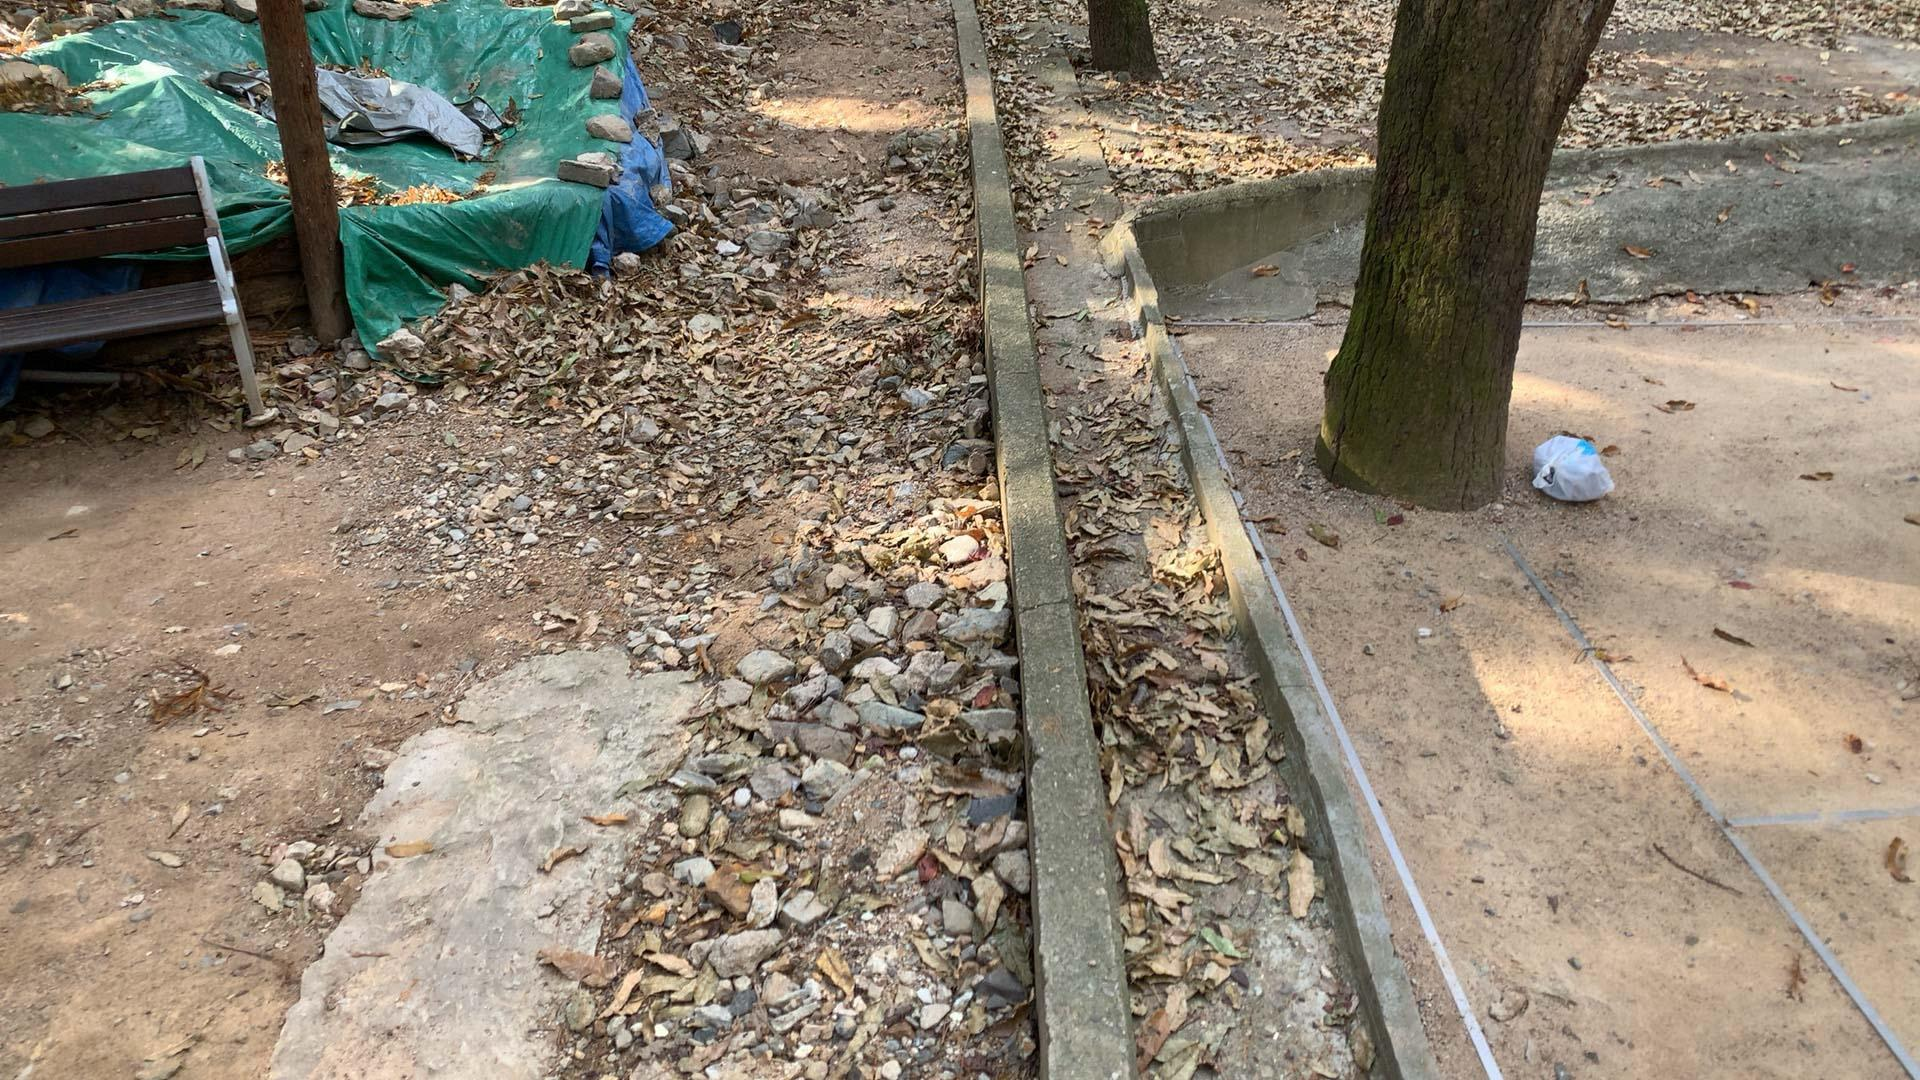white_bag: (1530, 430, 1619, 505)
